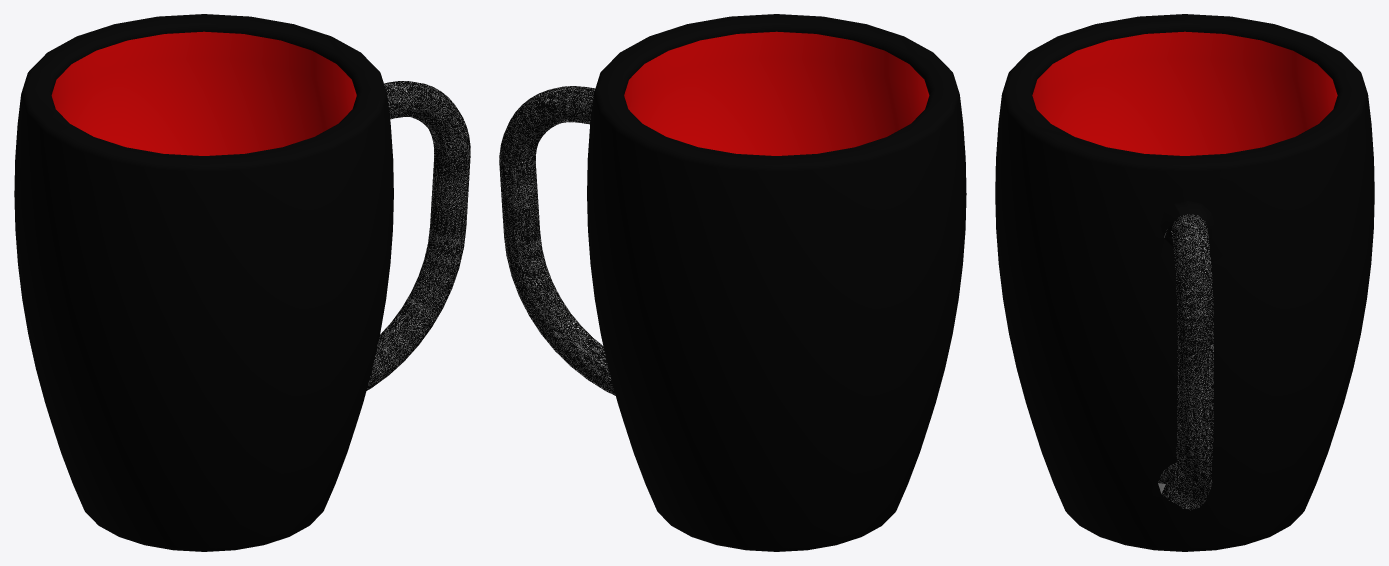
Rendered from mug_16_origin_gt_4.dae.
3 renders of one model, left to right at view 1: azimuth 30°, elevation 25°; view 2: azimuth 150°, elevation 25°; view 3: azimuth 270°, elevation 25°, orthographic.
Visible parts, largest first — view 1: SketchUp (×3); view 2: SketchUp (×3); view 3: SketchUp (×4).
Boxes of the visible parts, x1,y1,x2,y2 form: SketchUp (×3): (14, 14, 470, 551); SketchUp (×3): (499, 14, 966, 551); SketchUp (×4): (995, 14, 1374, 551).
Size of the model in its own units: 7.13 by 5.4 by 6.5.
